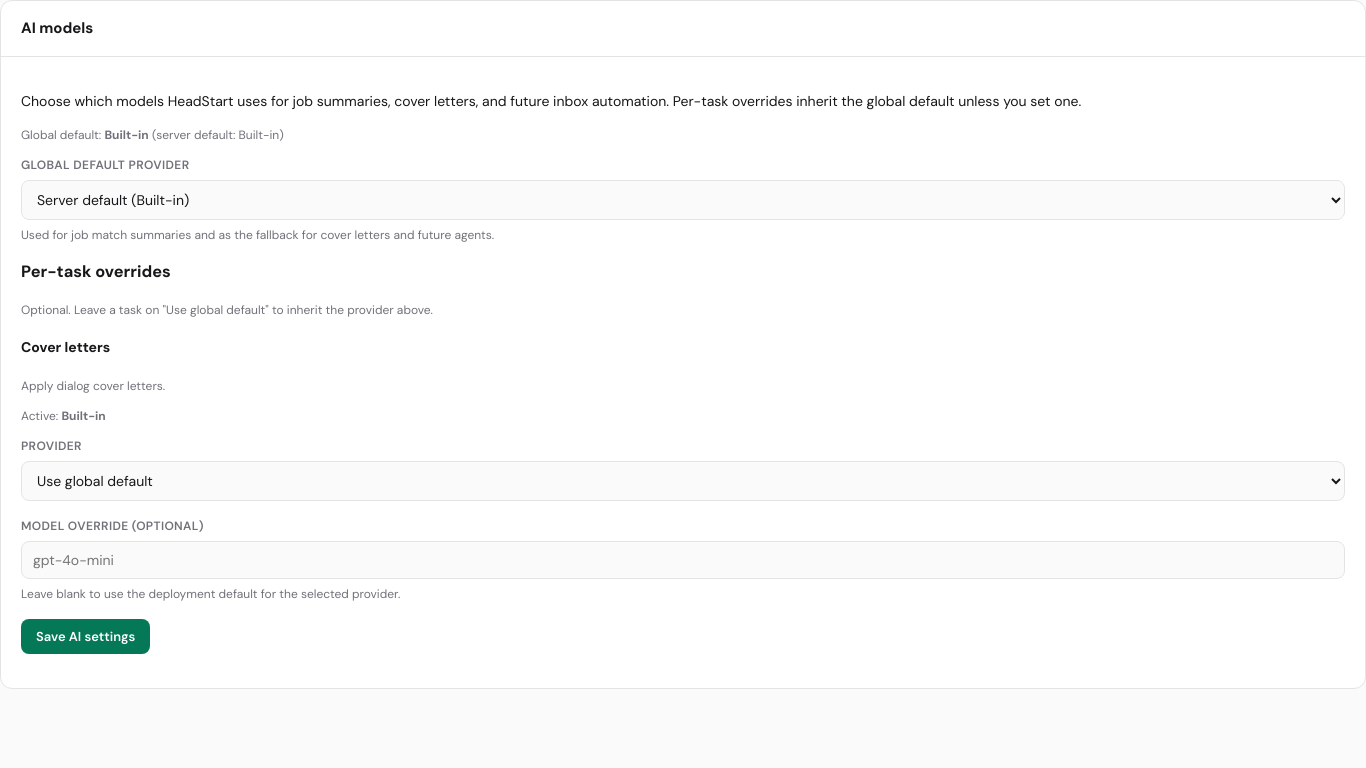
SettingsSummaryCard (save) › shows a save error banner when the update fails
Click the button "Save AI settings" at (86,636), box [21, 619, 150, 654]
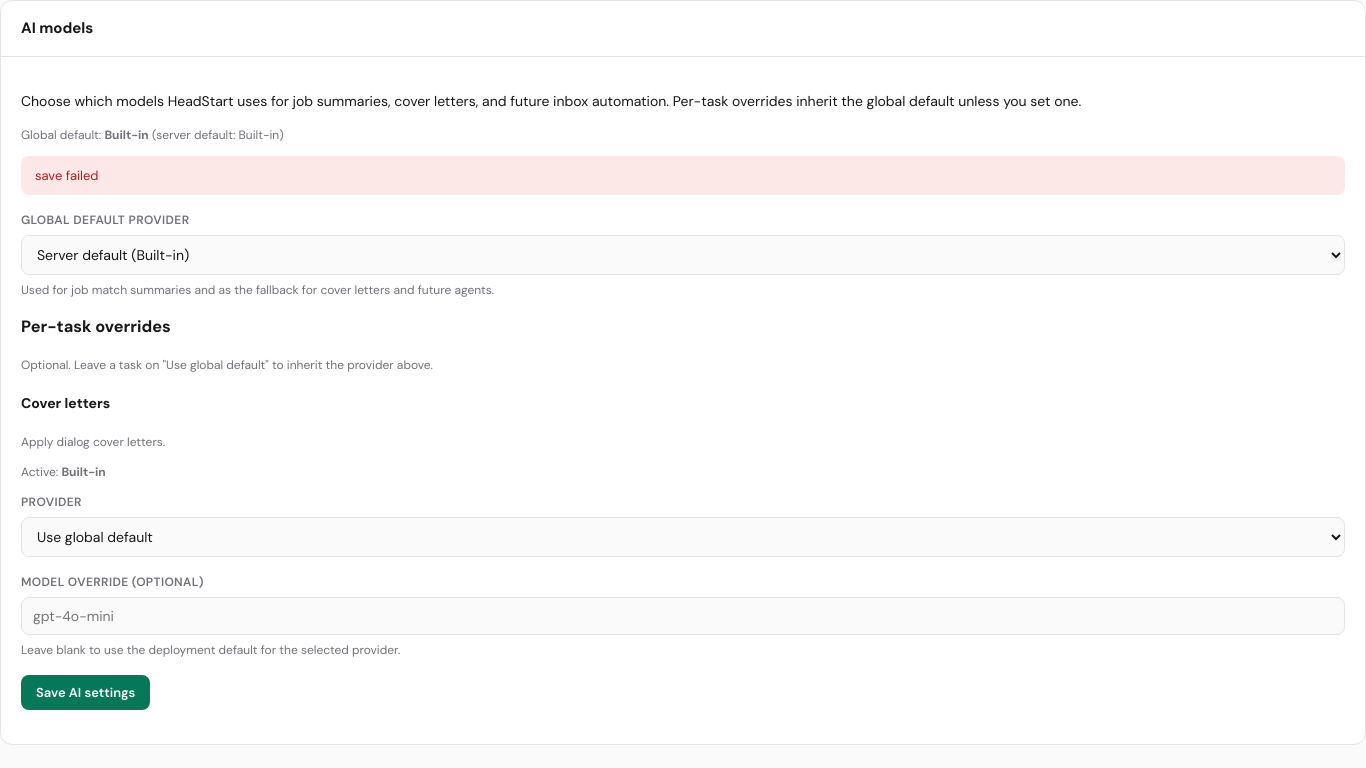
Result: the text "save failed" is shown at [21, 156, 1345, 195]
